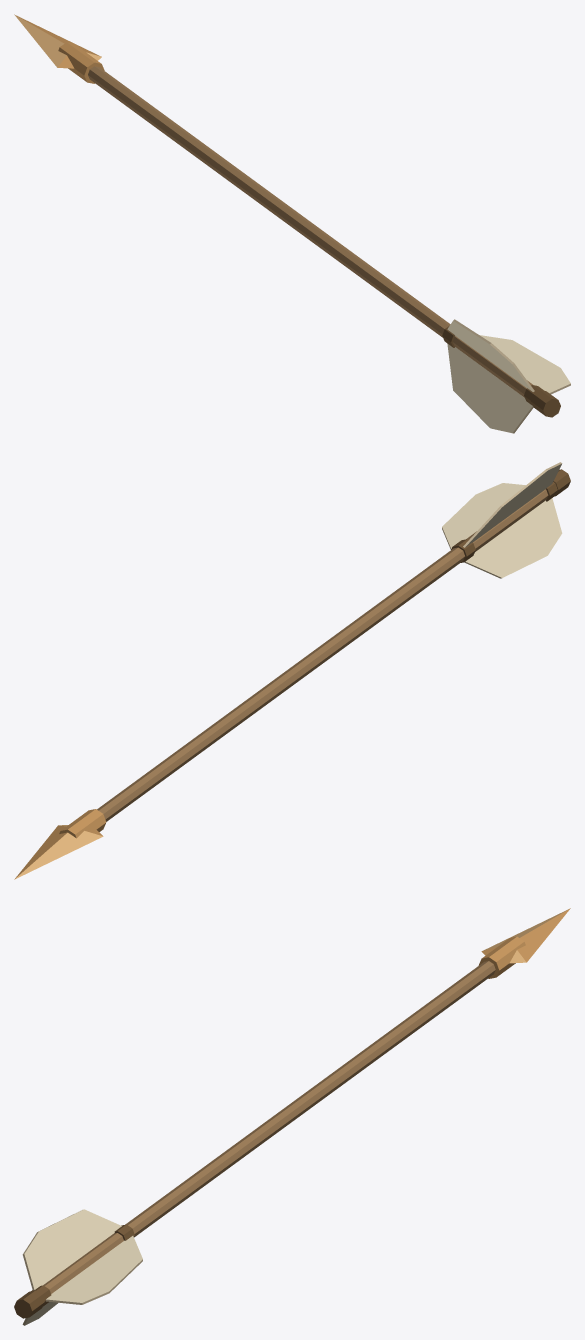
The model's file is Bronze Arrows-CGGnnDHX.glb.
The picture shows the model from 3 angles, top to bottom: view 1: azimuth 30°, elevation 25°; view 2: azimuth 150°, elevation 25°; view 3: azimuth 330°, elevation 25°; orthographic projection.
Parts seen in each view (by area): view 1: Bronze_Arrow; view 2: Bronze_Arrow; view 3: Bronze_Arrow.
Boxes of the visible parts, left/top/right/bottom form: Bronze_Arrow: left=14, top=14, right=570, bottom=433; Bronze_Arrow: left=14, top=462, right=570, bottom=879; Bronze_Arrow: left=14, top=908, right=570, bottom=1325.
Bounding box in the file's own units: 0.1108 × 0.1279 × 1.46.
